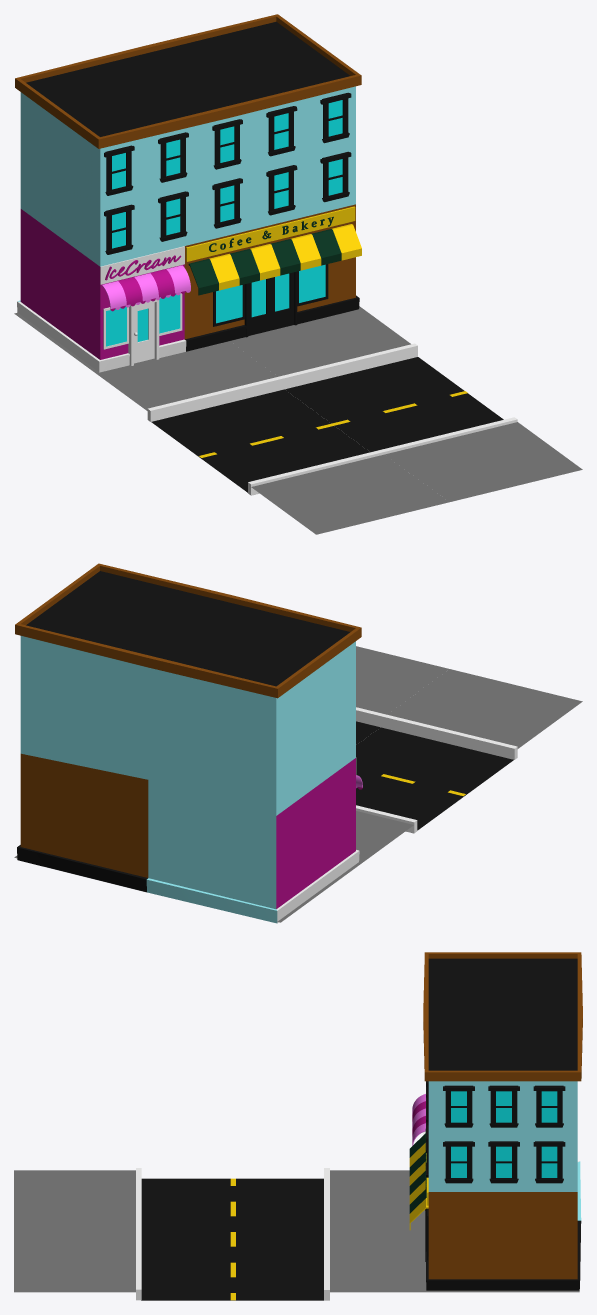
File: Street09.FBX
3 renders of one model, top to bottom at view 1: azimuth 30°, elevation 25°; view 2: azimuth 150°, elevation 25°; view 3: azimuth 270°, elevation 25°, orthographic. The views are drawn at different scales.
Parts seen in each view (by area): view 1: Street008, Box120, Plane081, Plane084, Cylinder056, Cylinder057, Cylinder058, Cylinder055, Box122, PivotDoor008, PivotDoor009, Cylinder059 (+11 smaller); view 2: Box120, Street008, Plane081, Cylinder056, Cylinder057, Cylinder058; view 3: Street008, Plane084, Plane081, Box120, Cylinder056, Cylinder057, Cylinder055, Cylinder058, AwningWindow029, AwningWindow030, AwningWindow031, AwningWindow033 (+3 smaller).
Part boxes in pixels (left/top/right/bottom): Street008: left=15, top=14, right=517, bottom=495; Box120: left=18, top=86, right=355, bottom=301; Plane081: left=151, top=389, right=369, bottom=492; Plane084: left=285, top=357, right=503, bottom=452; Cylinder056: left=251, top=454, right=448, bottom=534; Cylinder057: left=384, top=422, right=582, bottom=502; Cylinder058: left=14, top=312, right=277, bottom=410; Cylinder055: left=230, top=306, right=410, bottom=376; Box122: left=209, top=234, right=321, bottom=290; PivotDoor008: left=244, top=271, right=297, bottom=337; PivotDoor009: left=128, top=299, right=159, bottom=365; Cylinder059: left=118, top=269, right=174, bottom=304; Box120: left=20, top=636, right=355, bottom=923; Street008: left=15, top=563, right=517, bottom=922; Plane081: left=356, top=727, right=513, bottom=830; Cylinder056: left=387, top=669, right=582, bottom=748; Cylinder057: left=356, top=646, right=448, bottom=714; Cylinder058: left=277, top=811, right=413, bottom=922; Street008: left=136, top=952, right=582, bottom=1300; Plane084: left=141, top=1239, right=323, bottom=1300; Plane081: left=141, top=1178, right=323, bottom=1239; Box120: left=428, top=1081, right=581, bottom=1220; Cylinder056: left=14, top=1170, right=135, bottom=1231; Cylinder057: left=14, top=1231, right=135, bottom=1292; Cylinder055: left=330, top=1231, right=579, bottom=1292; Cylinder058: left=330, top=1170, right=425, bottom=1231; AwningWindow029: left=533, top=1141, right=565, bottom=1183; AwningWindow030: left=488, top=1141, right=519, bottom=1183; AwningWindow031: left=443, top=1141, right=474, bottom=1183; AwningWindow033: left=488, top=1085, right=519, bottom=1127.
Size of the model in its own units: 63.94 by 55.4 by 126.
